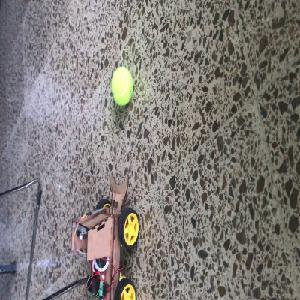Ball: (111, 68, 134, 105)
Robot: (71, 171, 140, 299)
